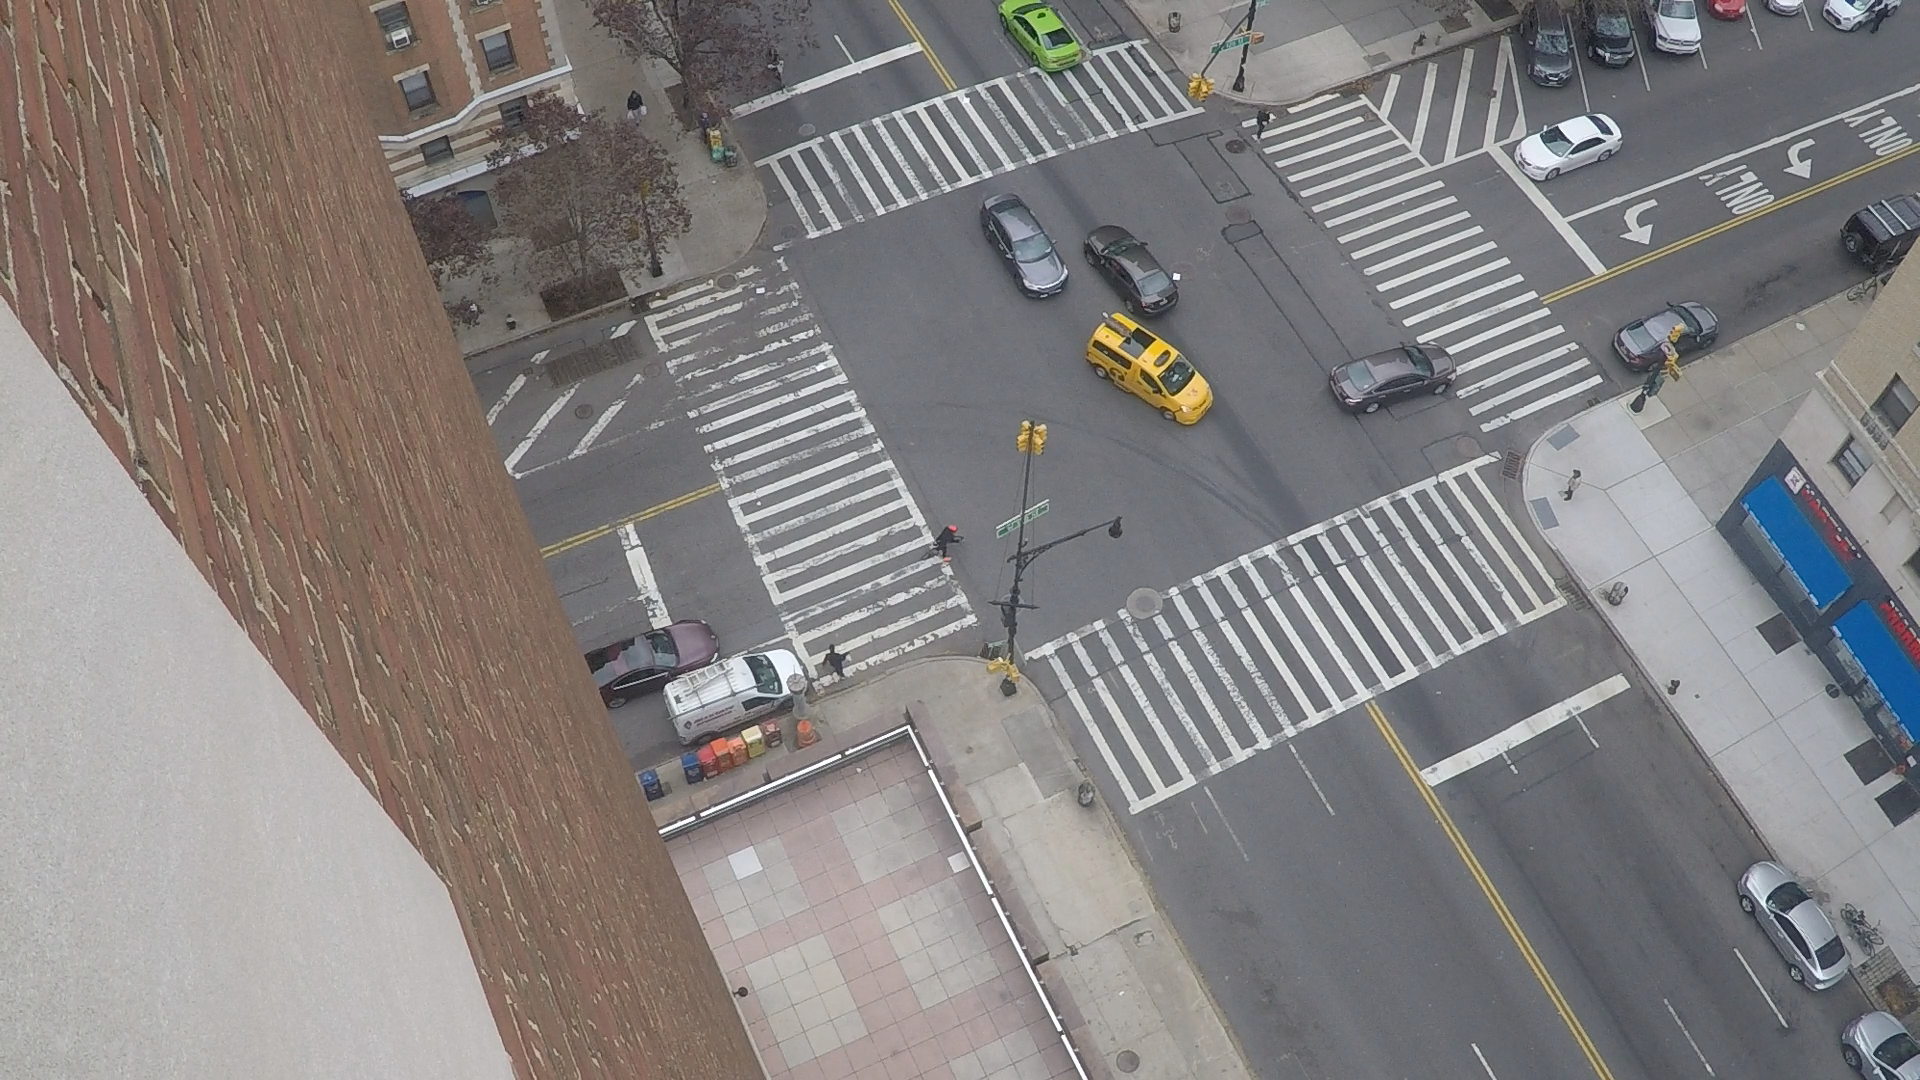Car: (1642, 1, 1652, 38), (1916, 191, 1919, 209), (1128, 310, 1136, 315), (1526, 48, 1527, 64), (1097, 376, 1104, 378), (1001, 20, 1002, 26)
Pedestrian: (633, 88, 637, 92), (948, 557, 951, 558)
